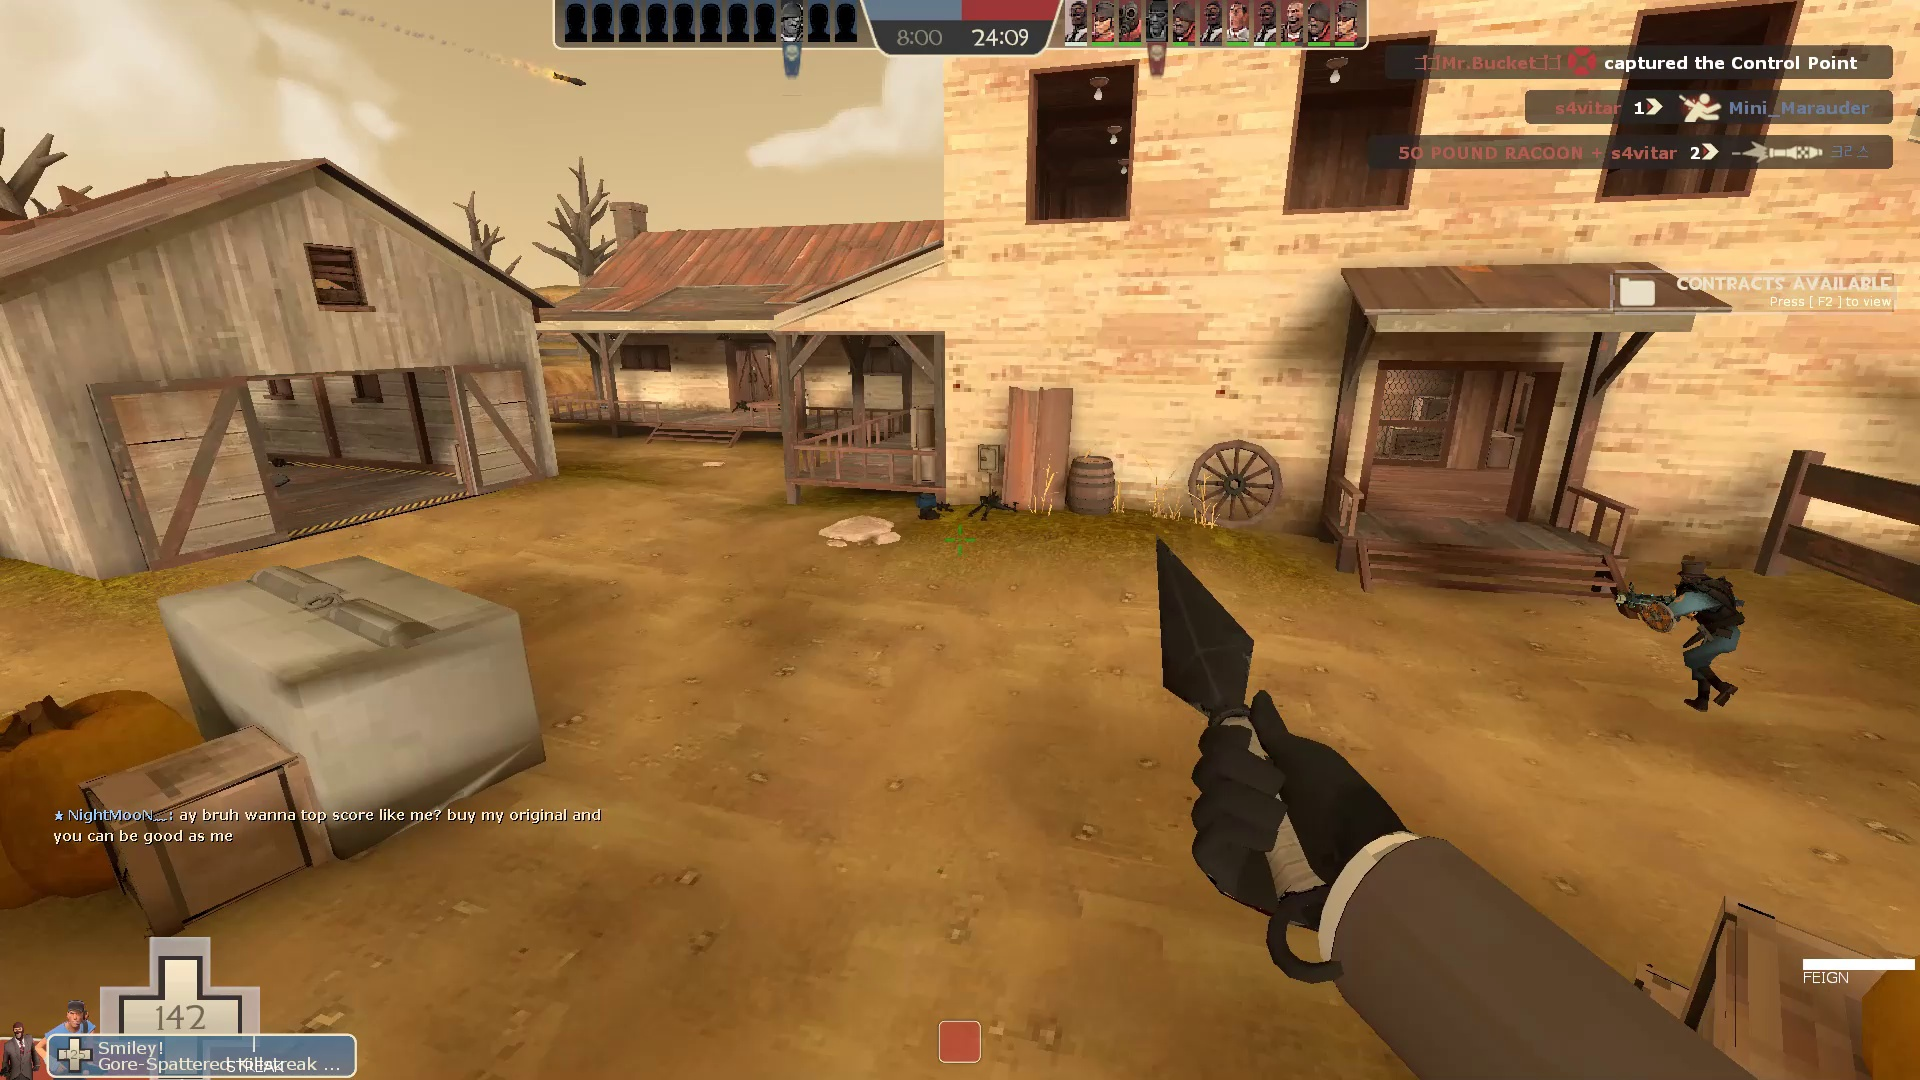blu_demo: (1605, 550, 1754, 716)
